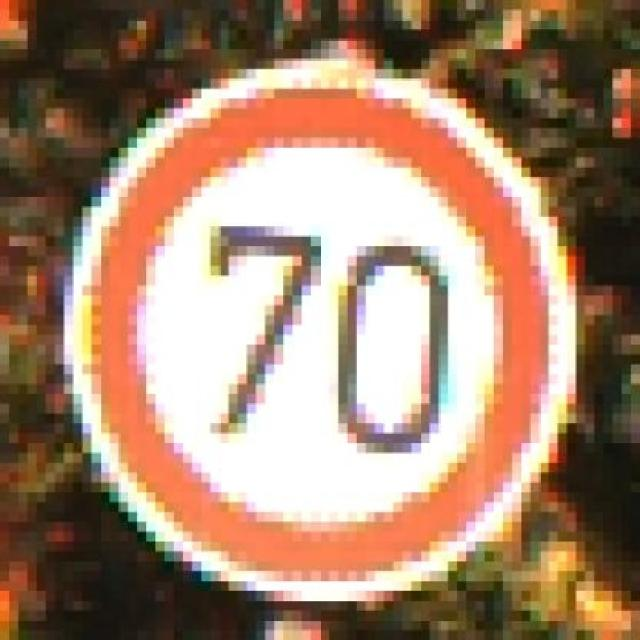forb_speed_over_70: (75, 71, 561, 594)
